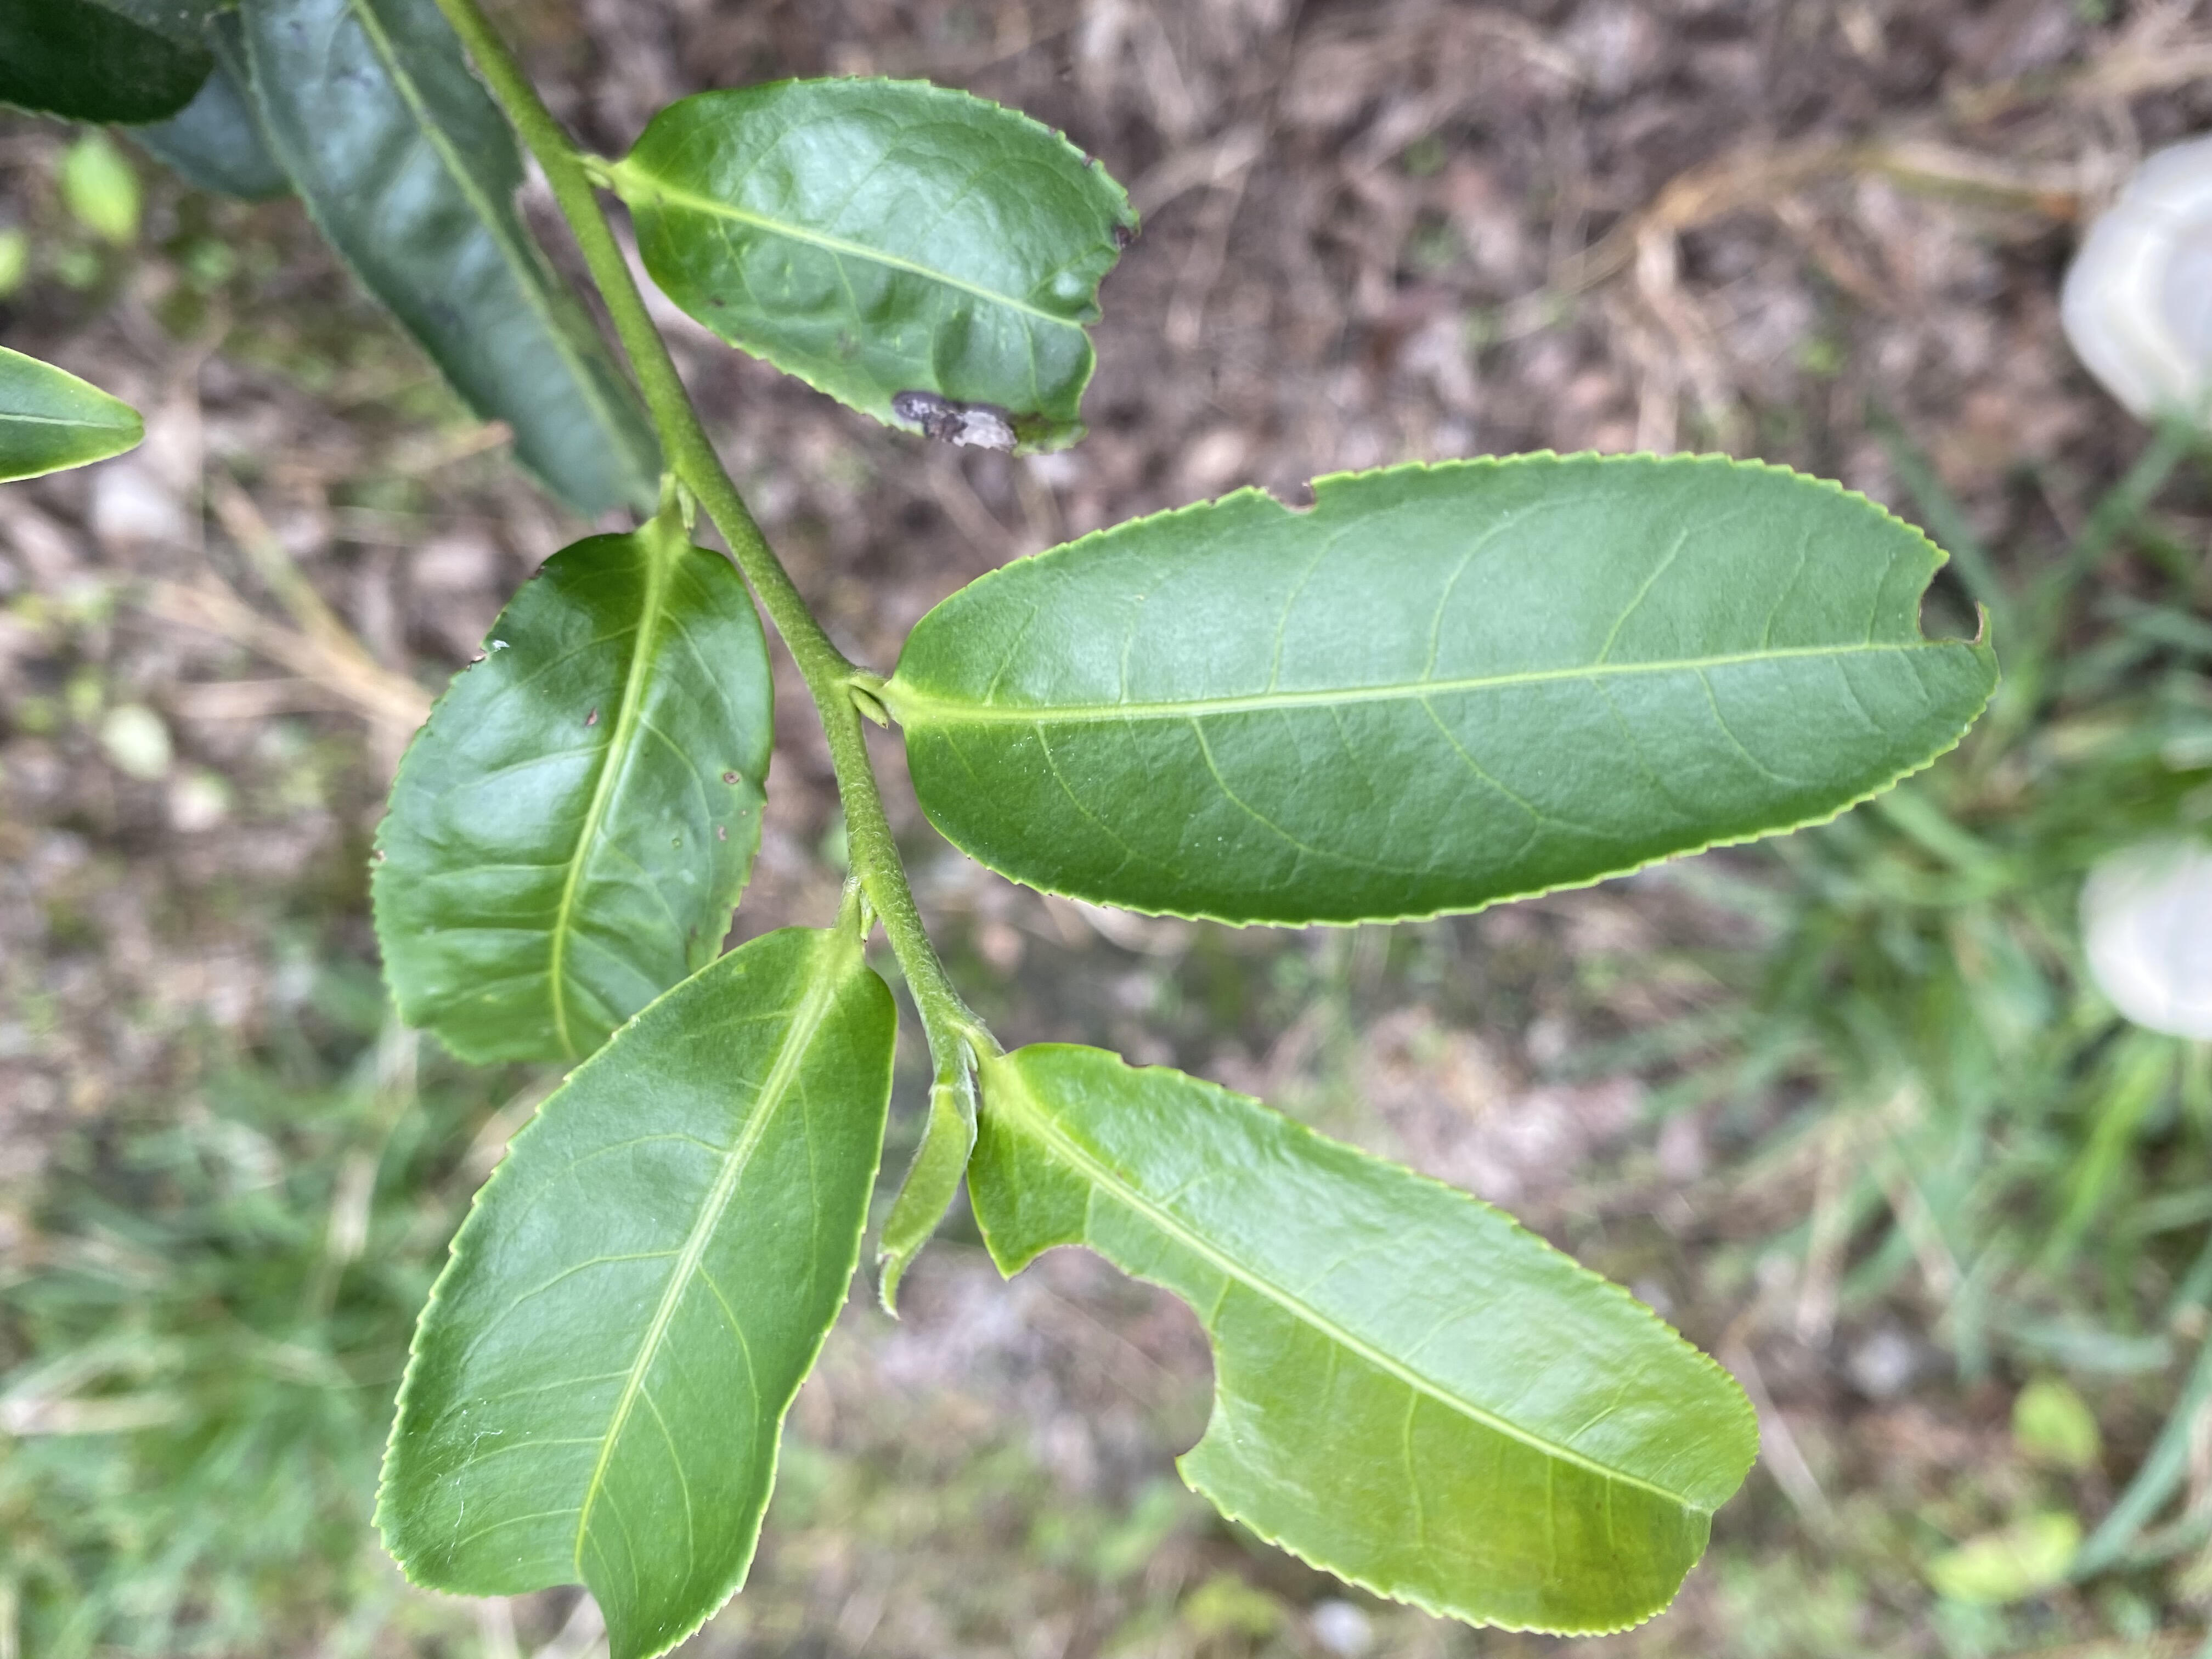chihuo_high: (904, 450, 2005, 931)
chihuo_low: (963, 1040, 1764, 1642)
healthy: (369, 924, 899, 1657)
tanju_low: (364, 530, 780, 1077)
